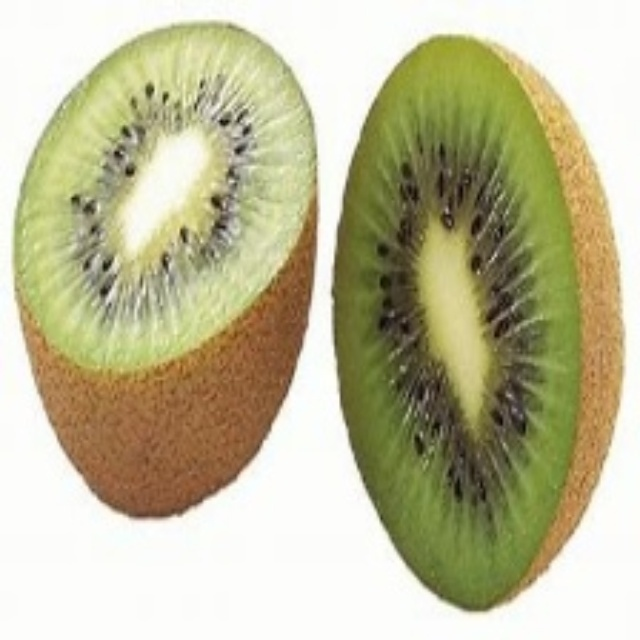kiwi: (331, 25, 625, 617), (22, 17, 312, 522)
